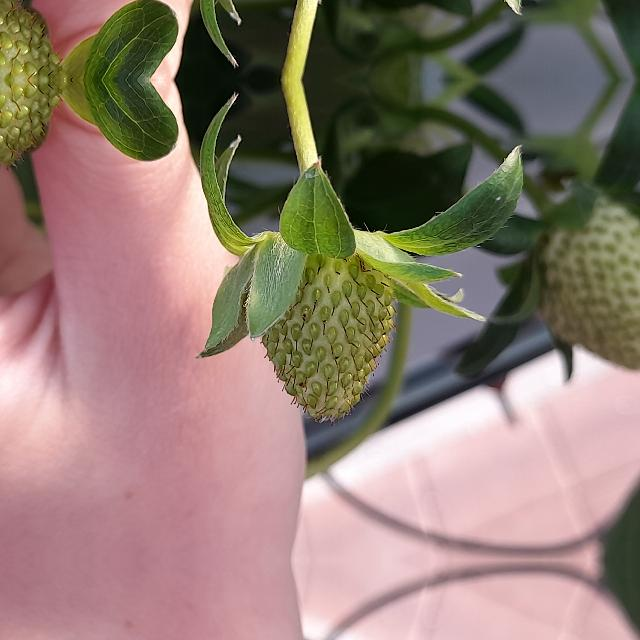Health_25: (253, 238, 397, 426)
